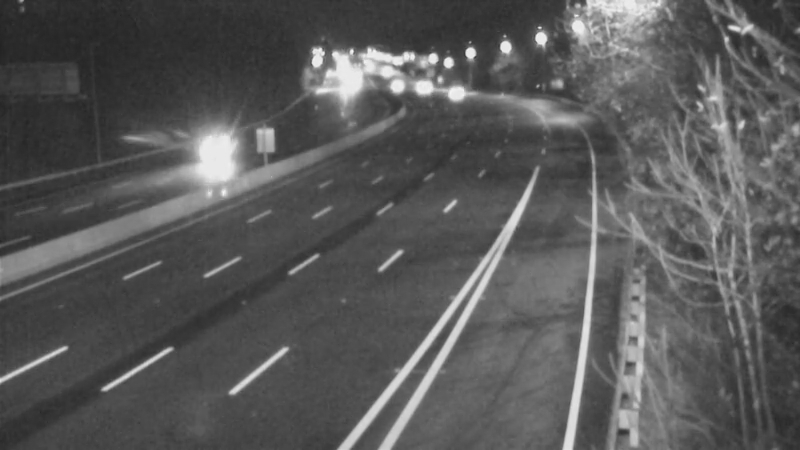vehicle: (177, 113, 257, 193), (372, 60, 422, 110), (397, 59, 447, 109), (429, 69, 479, 119)
